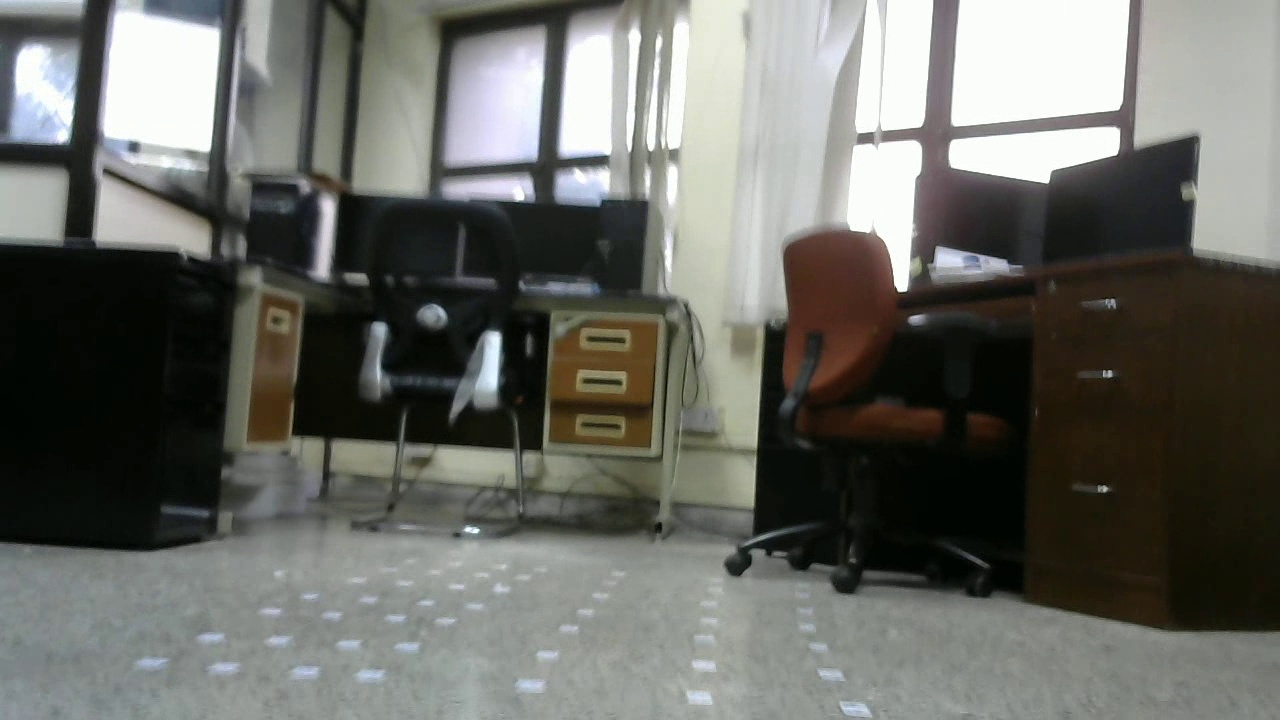chair: (721, 227, 1000, 595), (347, 197, 532, 545)
